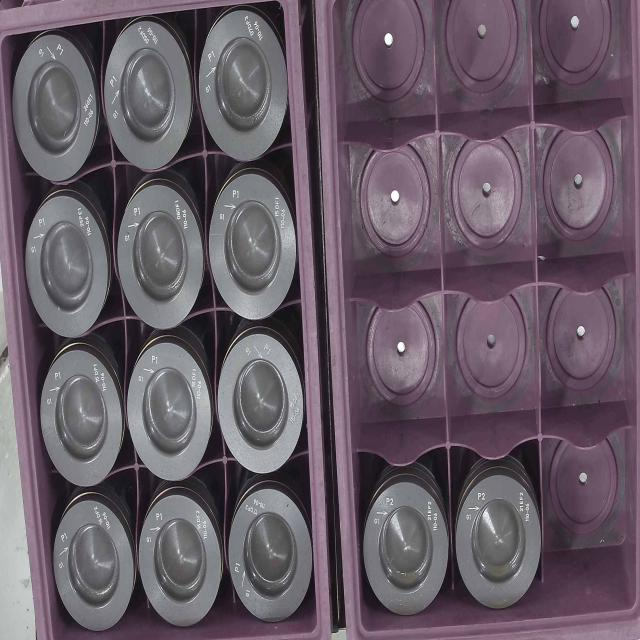P1: (23, 190, 114, 340), (210, 174, 300, 321), (120, 174, 204, 330), (200, 17, 290, 160), (8, 41, 100, 180), (216, 338, 306, 476), (229, 482, 315, 626), (33, 355, 125, 488), (106, 28, 192, 168), (47, 506, 137, 636), (129, 344, 213, 482), (140, 492, 223, 631)
P2: (360, 460, 449, 619), (453, 462, 541, 612)
